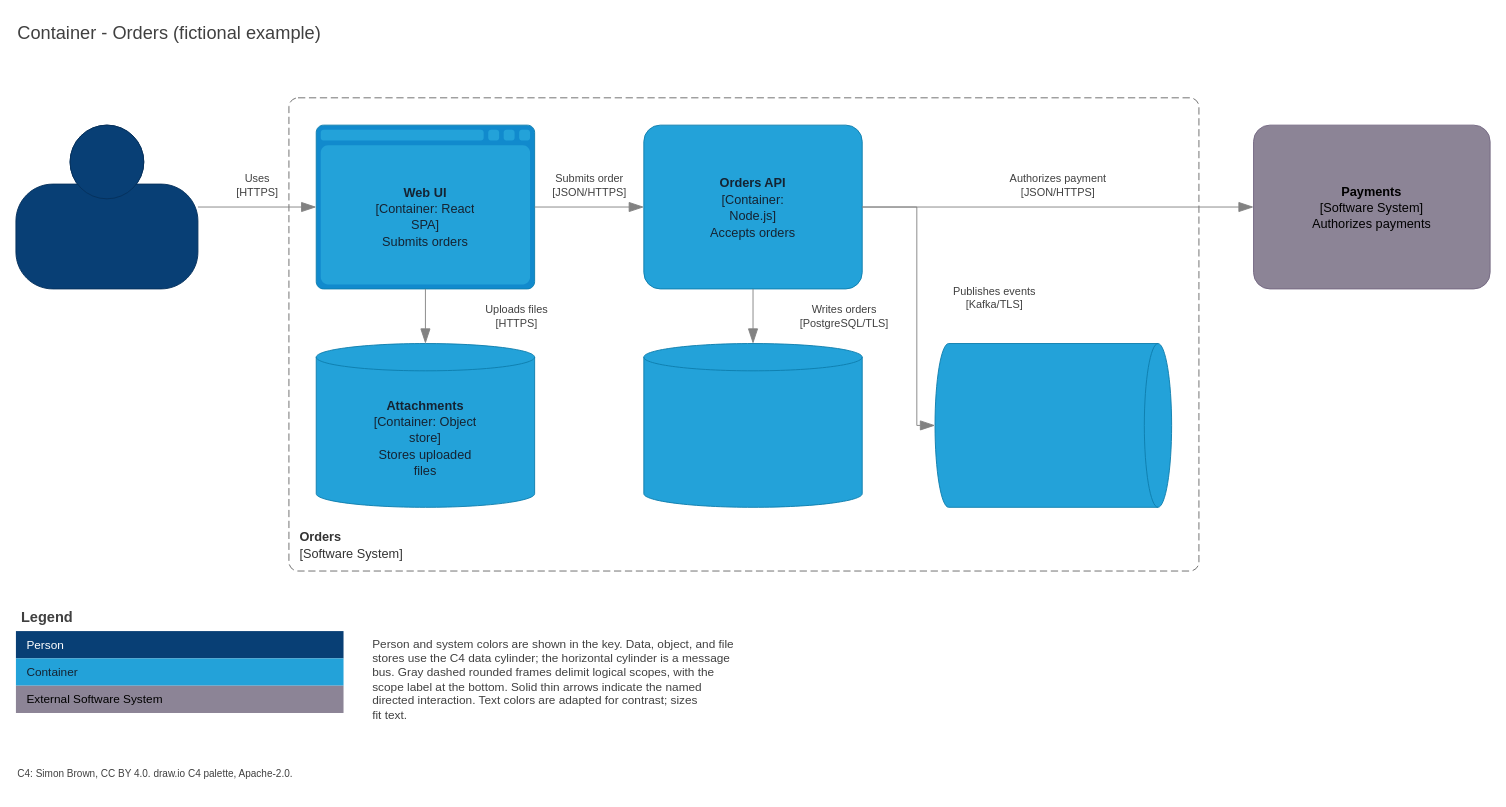
This 1506x807 diagram has some shape labels left out. Each missing label, with the centre of its shape:
Customer [Person] Places orders: point 106,206
Orders store [Container: PostgreSQL schema] Stores orders: point 752,425
orders.created [Container: Kafka topic] Stores order events: point 1053,425
